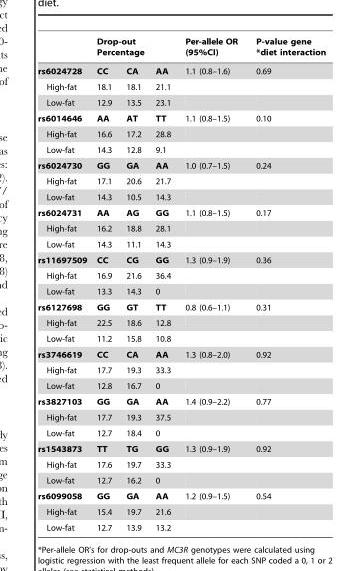table: (37, 36, 325, 531)
table column: (246, 36, 325, 531), (177, 36, 246, 531), (37, 36, 91, 531), (147, 36, 177, 531), (118, 36, 147, 531), (91, 36, 118, 531)
table column header: (37, 36, 325, 78)
table row: (37, 36, 325, 61), (37, 61, 325, 78), (37, 78, 325, 94), (37, 94, 325, 110), (37, 110, 325, 126), (37, 141, 325, 157), (37, 157, 325, 173), (37, 173, 325, 189), (37, 204, 325, 220), (37, 220, 325, 236), (37, 236, 325, 252), (37, 267, 325, 283), (37, 283, 325, 299), (37, 314, 325, 330), (37, 330, 325, 346), (37, 346, 325, 362), (37, 377, 325, 393), (37, 393, 325, 409), (37, 409, 325, 425), (37, 440, 325, 456), (37, 456, 325, 472), (37, 472, 325, 488), (37, 503, 325, 519), (37, 126, 325, 141), (37, 189, 325, 204), (37, 252, 325, 267), (37, 299, 325, 314), (37, 362, 325, 377), (37, 425, 325, 440), (37, 488, 325, 503), (37, 519, 325, 531)
table spanning cell: (246, 36, 325, 78), (177, 36, 246, 78), (37, 36, 91, 78), (91, 36, 177, 61)
